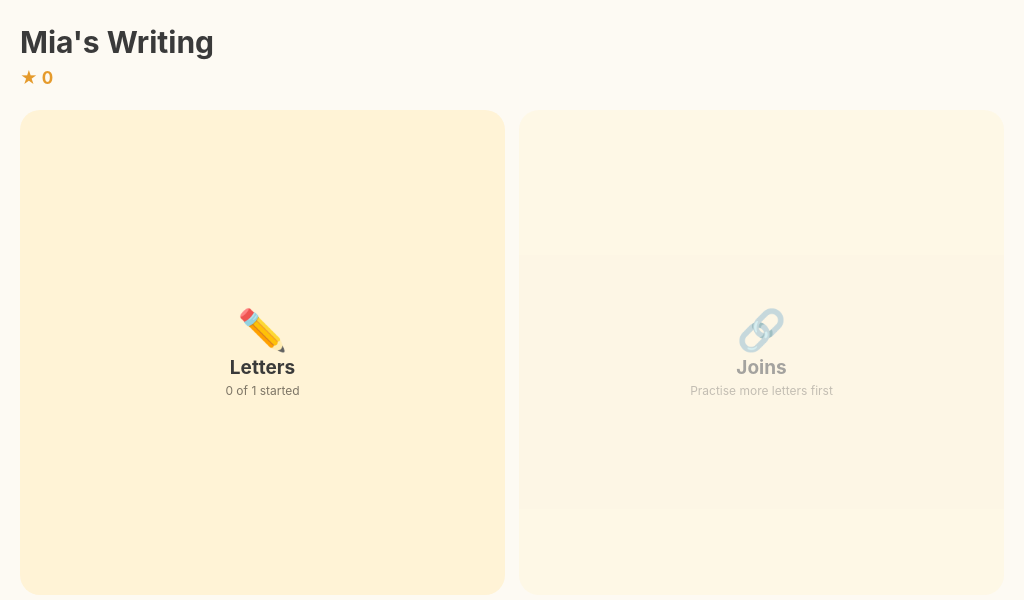
Test: App › shows the letters grouped into stroke families, with only the first unlocked
What coordinates should you click on to do the following:
click the button "✏️ Letters 0 of 1 started"
I would click on:
 (49, 352)
Its box is [20, 110, 505, 595].
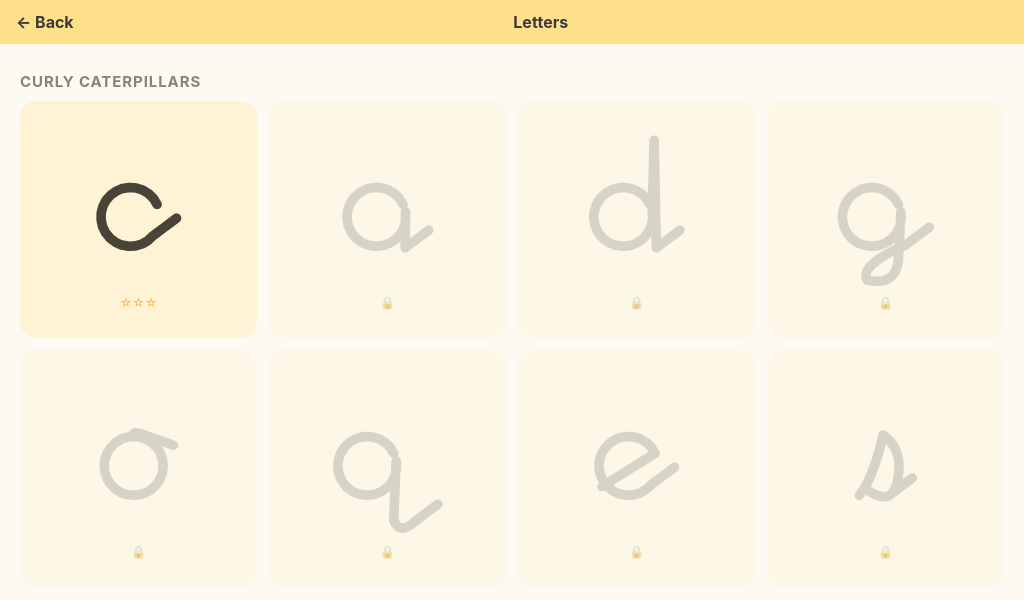
Now the heading "Curly caterpillars" is shown, box [20, 72, 201, 91]
Now the button named "Letter c" is enabled, box [20, 101, 257, 338]
Now the button named "Letter a" is disabled, box [269, 101, 506, 338]
